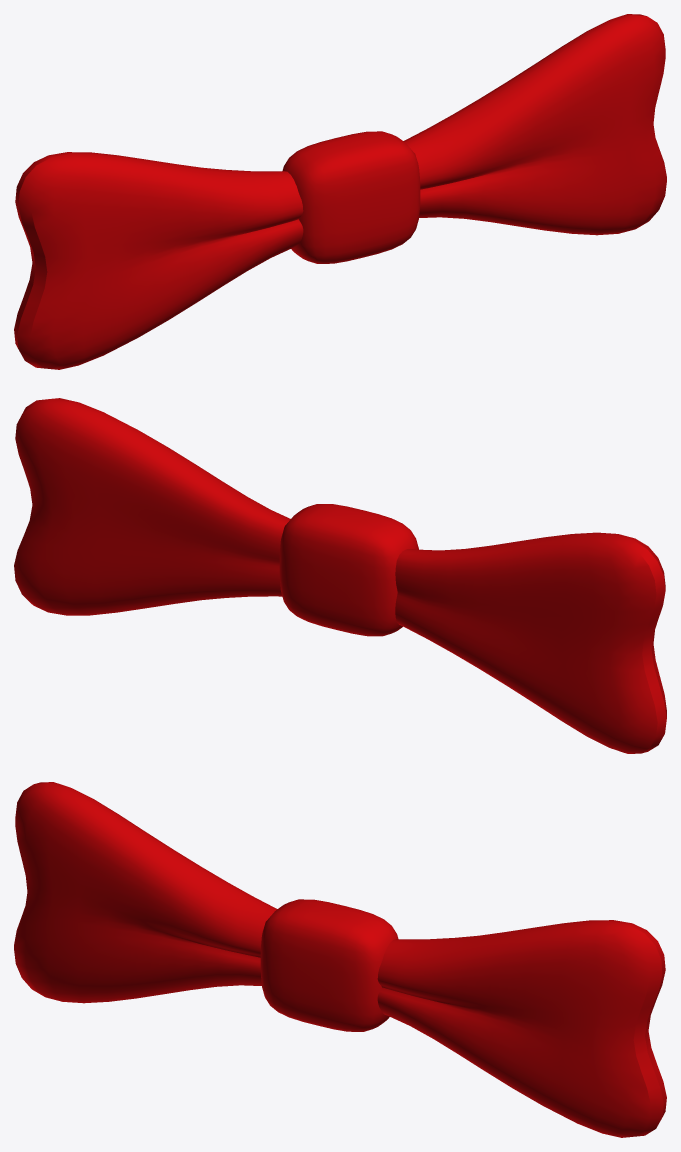
The model's file is Bowtie.fbx.
The picture shows the model from 3 angles, top to bottom: view 1: azimuth 30°, elevation 25°; view 2: azimuth 150°, elevation 25°; view 3: azimuth 330°, elevation 25°; orthographic projection.
Visible parts, largest first — view 1: Bowtie; view 2: Bowtie; view 3: Bowtie.
Boxes of the visible parts, x1,y1,x2,y2 form: Bowtie: (14,14,666,369); Bowtie: (14,398,666,753); Bowtie: (14,782,666,1137).
Bounding box in the file's own units: 50.1 × 5.27 × 15.6.
